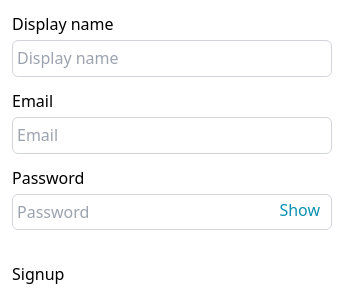
Test: SignupForm › with invalid email › should be required else render required validation error
Click the button "Signup": (38, 274) [12, 262, 64, 286]
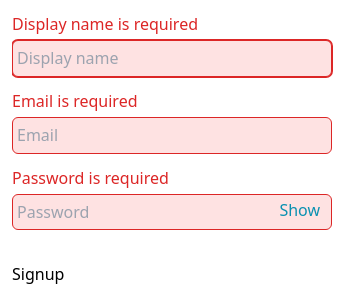
Now the text "Display name is required" is shown, box [12, 13, 198, 35]
